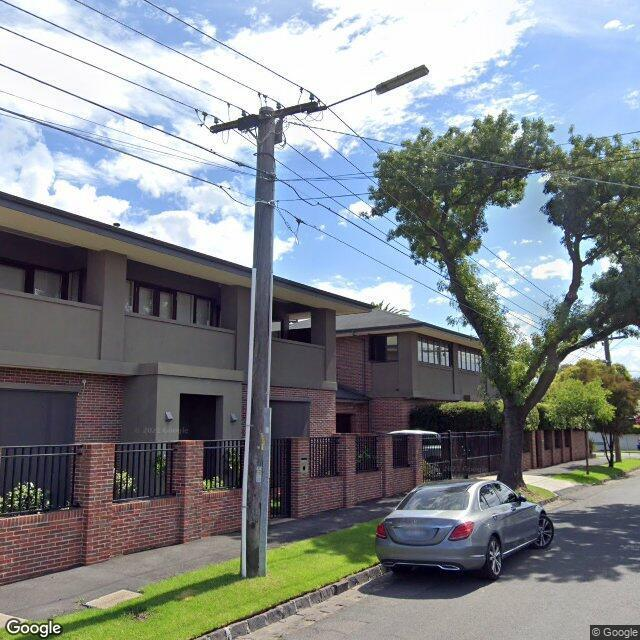crossarm: (210, 101, 318, 133)
streetlight: (308, 64, 429, 112)
timber-pole: (244, 107, 274, 578)
